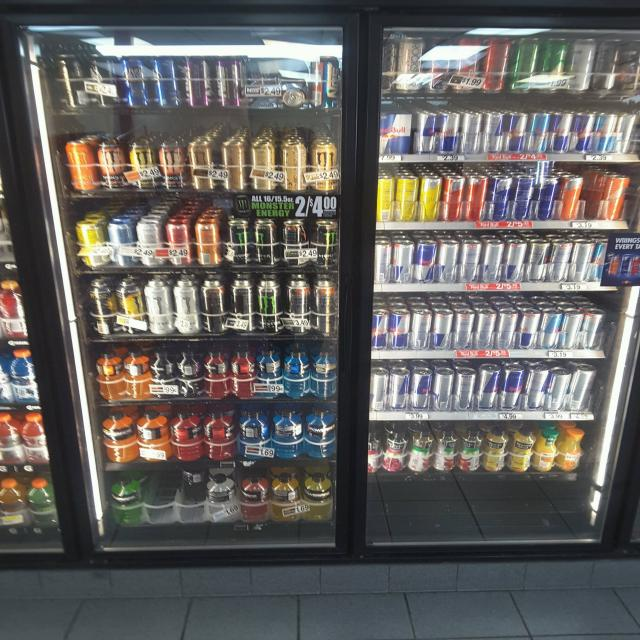empty: (144, 460, 181, 517), (578, 171, 607, 221)
